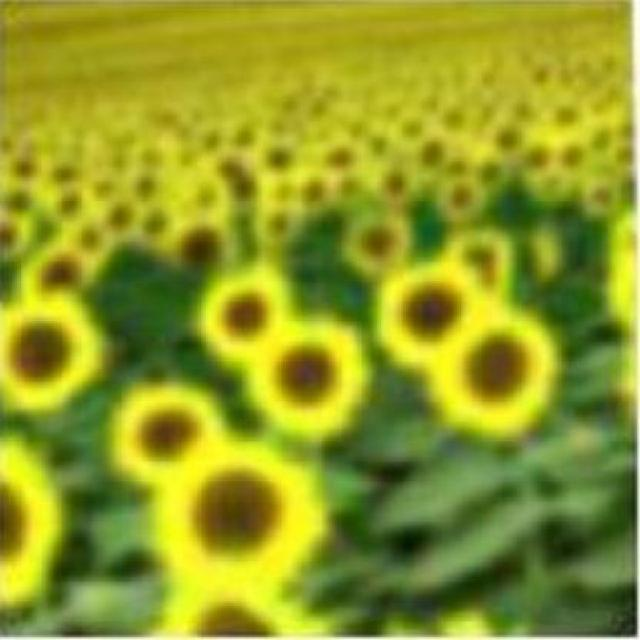sunflower: (153, 452, 329, 592), (433, 308, 558, 438), (253, 319, 369, 442), (0, 289, 109, 411)
